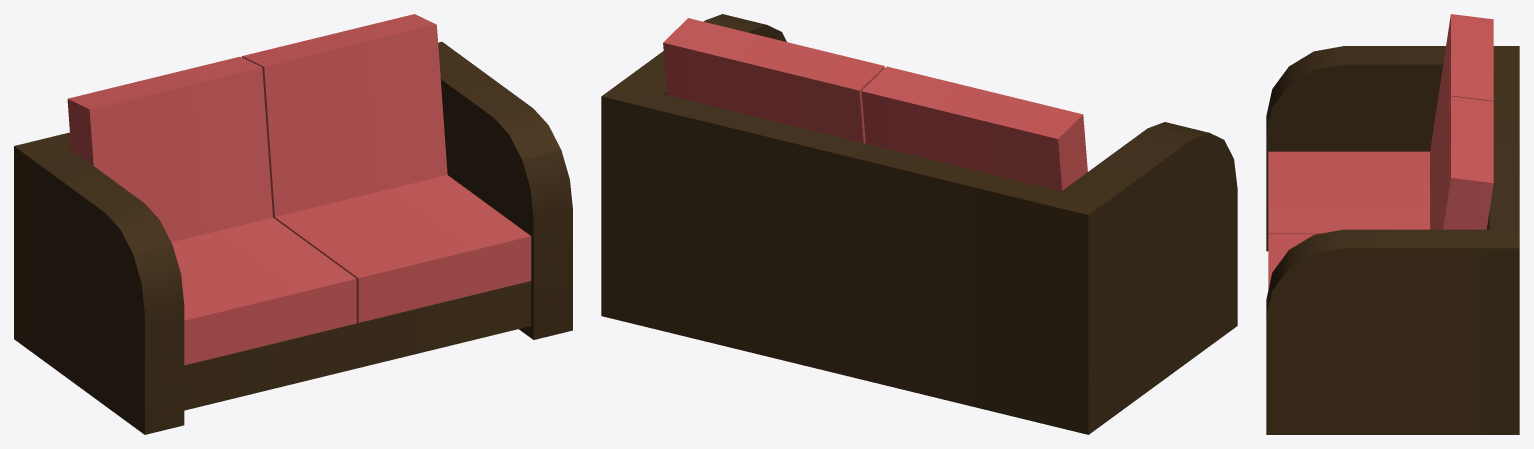
File: Sofa.fbx
The picture shows the model from 3 angles, left to right: view 1: azimuth 30°, elevation 25°; view 2: azimuth 150°, elevation 25°; view 3: azimuth 270°, elevation 25°; orthographic projection. The views are drawn at different scales.
Visible parts, largest first — view 1: Sofa; view 2: Sofa; view 3: Sofa.
Boxes of the visible parts, x1,y1,x2,y2 form: Sofa: (14, 14, 572, 434); Sofa: (601, 14, 1237, 434); Sofa: (1266, 14, 1519, 434).
Size of the model in its own units: 197 by 108 by 104.
